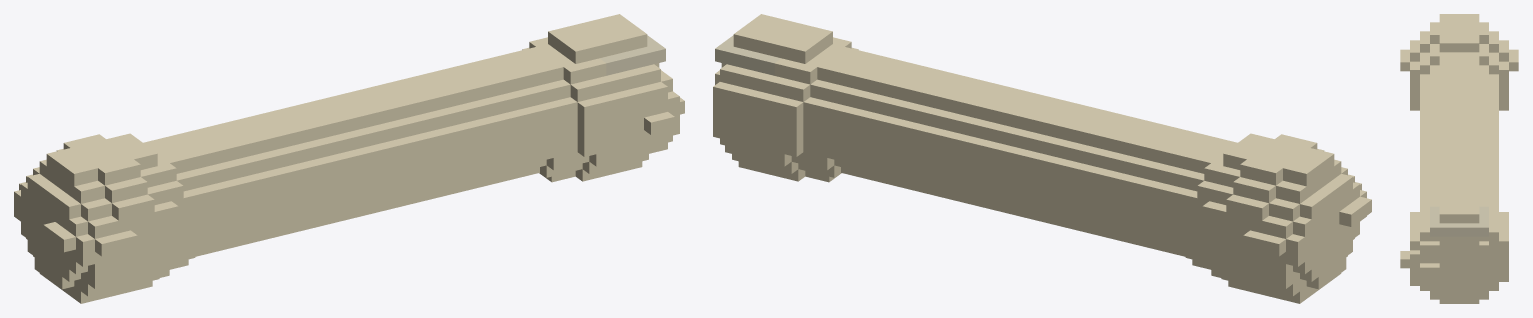
The model's file is billet_bone.glb.
3 renders of one model, left to right at view 1: azimuth 30°, elevation 25°; view 2: azimuth 150°, elevation 25°; view 3: azimuth 270°, elevation 25°, orthographic. The views are drawn at different scales.
Parts seen in each view (by area): view 1: billet_bone:compound; view 2: billet_bone:compound; view 3: billet_bone:compound.
Boxes of the visible parts, x1,y1,x2,y2 form: billet_bone:compound: (14, 14, 684, 303); billet_bone:compound: (713, 14, 1371, 303); billet_bone:compound: (1400, 14, 1518, 303).
Size of the model in its own units: 0.208 by 0.04 by 0.048.
